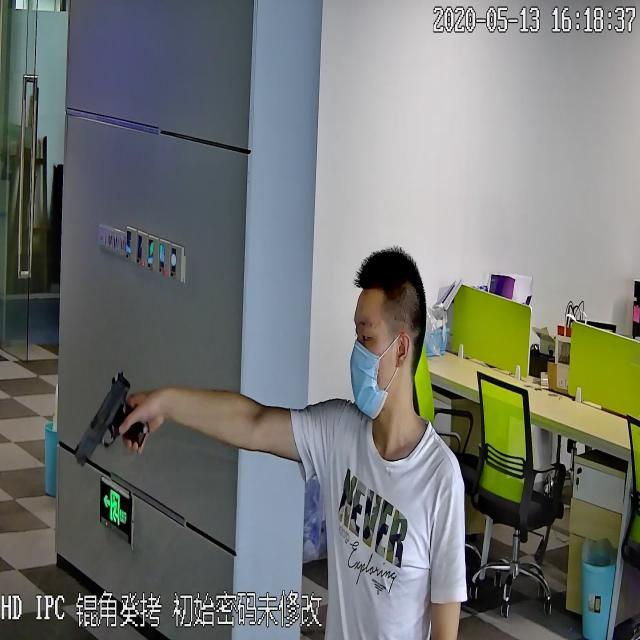gun: (70, 366, 153, 474)
